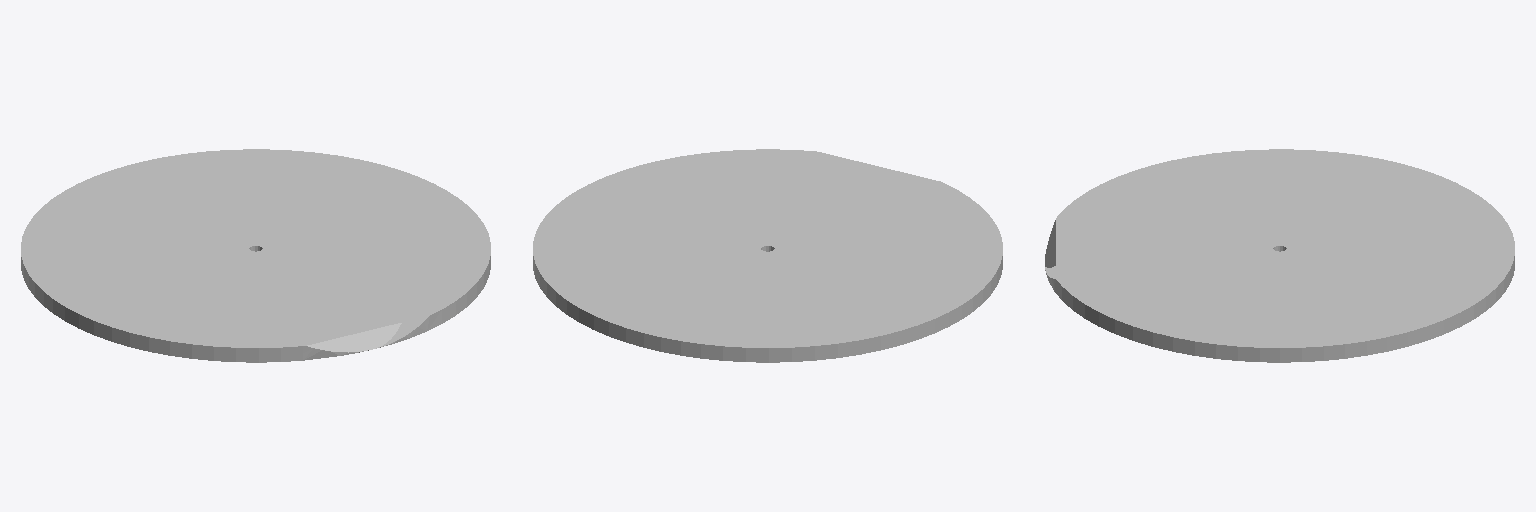
File: barbot2.obj
3 views of the same model, side by side, from view 1: azimuth 30°, elevation 25°; view 2: azimuth 150°, elevation 25°; view 3: azimuth 270°, elevation 25° (orthographic).
Size of the model in its own units: 44 by 1.5 by 43.99.